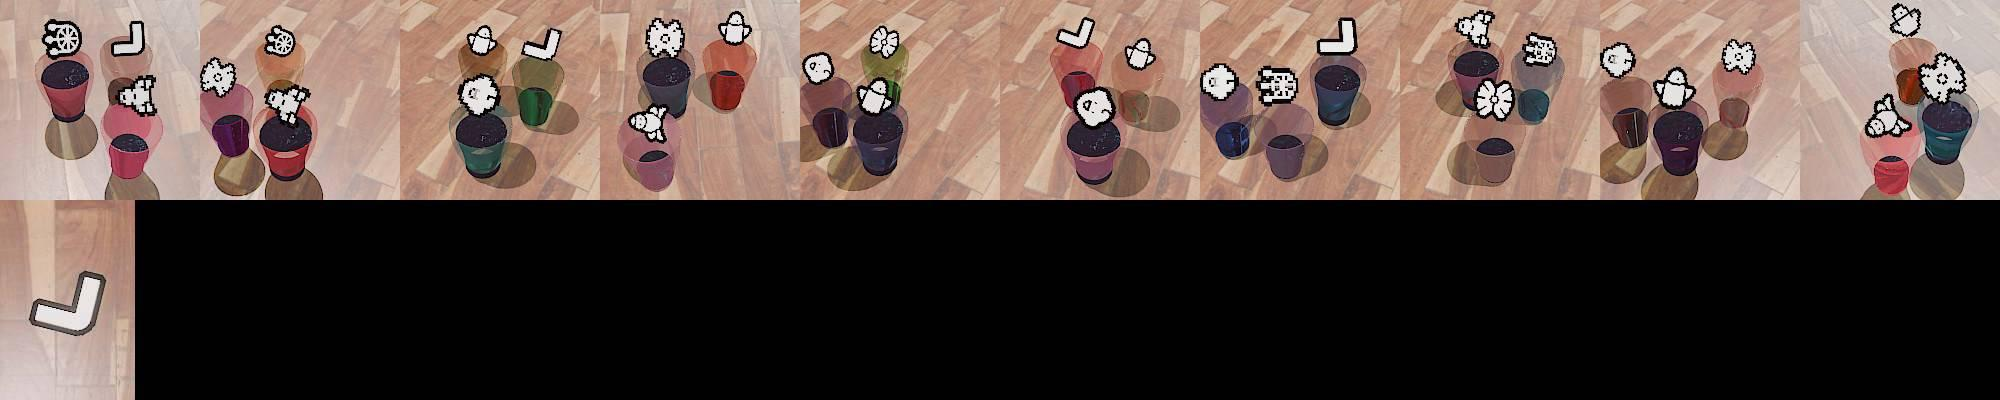icon: (27, 269, 108, 335), (1917, 51, 1966, 103), (1865, 92, 1913, 138), (263, 80, 311, 122), (1472, 78, 1517, 122), (1652, 66, 1698, 110), (458, 73, 501, 117), (1073, 85, 1117, 127), (644, 17, 686, 60), (116, 74, 158, 116), (42, 19, 84, 61), (1454, 9, 1495, 50), (855, 76, 897, 116), (1256, 65, 1298, 104), (199, 56, 239, 97), (1318, 17, 1358, 56), (628, 104, 670, 143), (520, 24, 562, 62), (1519, 31, 1559, 69), (1202, 62, 1239, 101), (1598, 41, 1635, 79), (1056, 14, 1096, 50), (110, 20, 147, 57), (1719, 38, 1756, 75), (718, 10, 754, 46), (869, 23, 902, 59), (802, 51, 835, 85), (1890, 3, 1922, 38), (467, 24, 499, 56), (264, 25, 296, 57), (1125, 38, 1154, 70)
